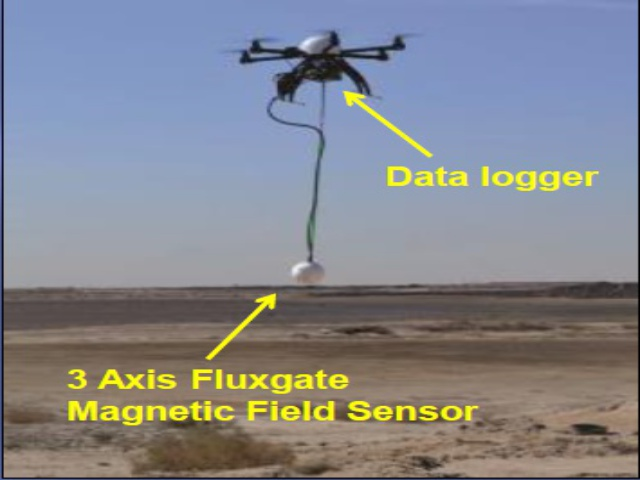drone: (217, 22, 423, 105)
